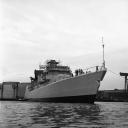Fragata: (25, 34, 109, 104)
